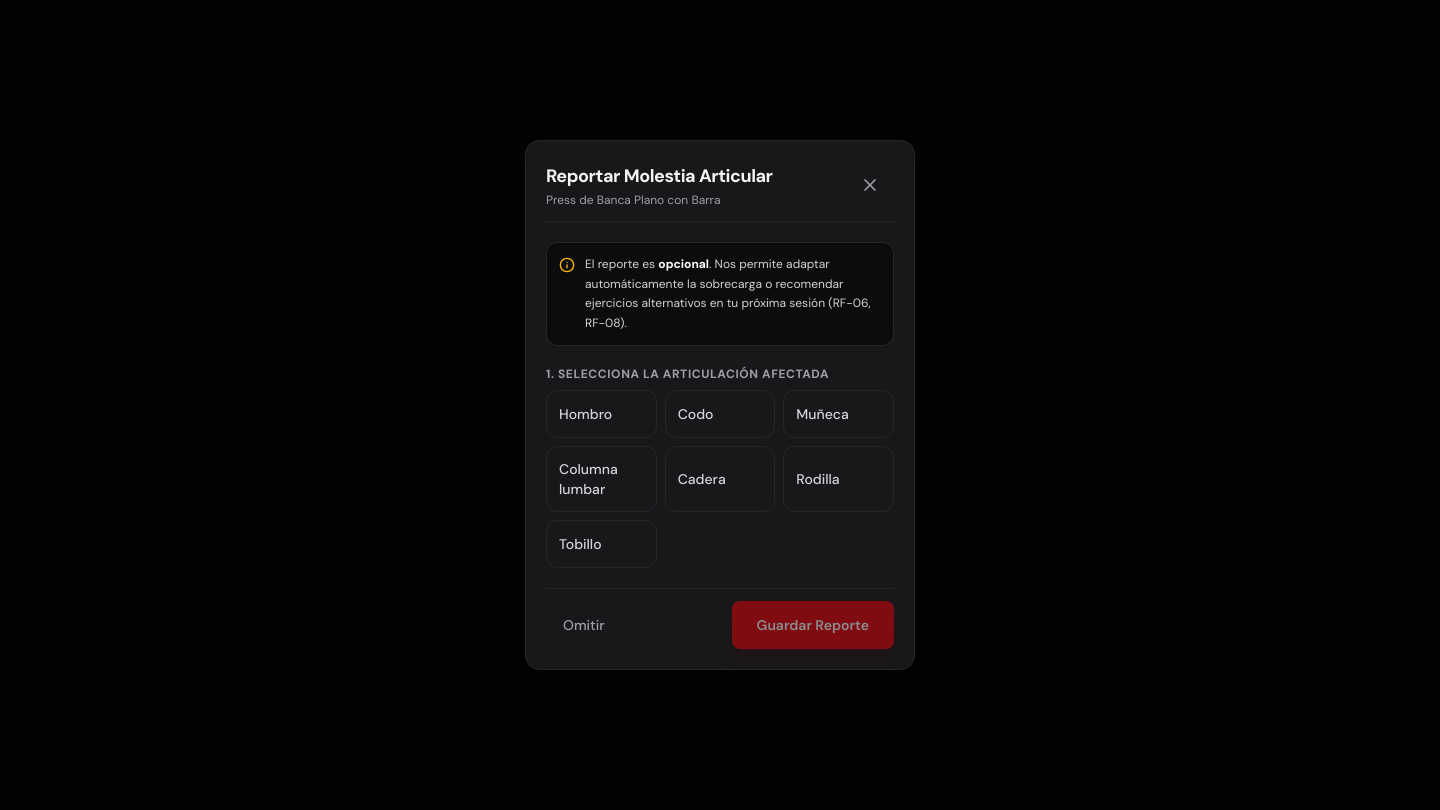
Test: TASK-71: PainReportModal - Post-Exercise Joint Discomfort Report (RF-06, CA-06.1, CA-06.2) › should automatically set side to bilateral and hide unilateral options for columna_lumbar
Step 1. Click the button "Columna lumbar" → (601, 479), box [546, 446, 657, 512]
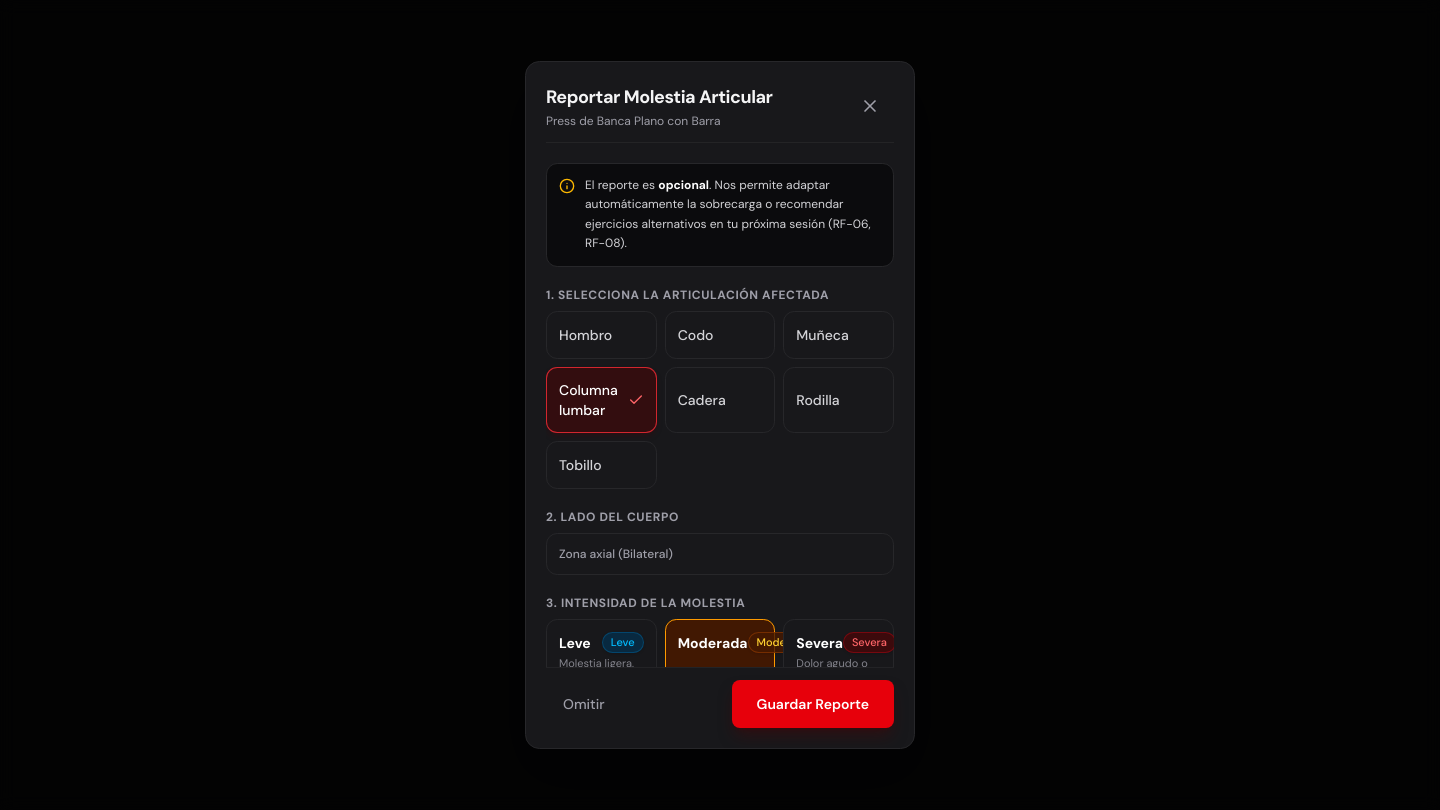
Now the text "Zona axial (Bilateral)" is shown, box [546, 533, 894, 575]
